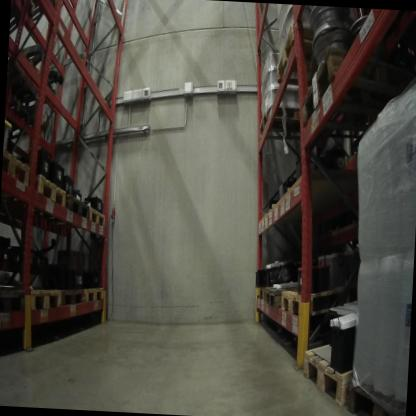pallet: (298, 51, 416, 138), (280, 281, 371, 333), (300, 339, 356, 406), (273, 25, 325, 90), (265, 271, 330, 315), (258, 104, 325, 138), (2, 148, 38, 197), (30, 171, 68, 217), (347, 387, 405, 416), (19, 0, 66, 28), (25, 282, 62, 317), (61, 184, 90, 224), (0, 276, 30, 314), (10, 0, 37, 34), (83, 281, 108, 313), (61, 280, 86, 309), (85, 204, 108, 232), (256, 281, 270, 312)
